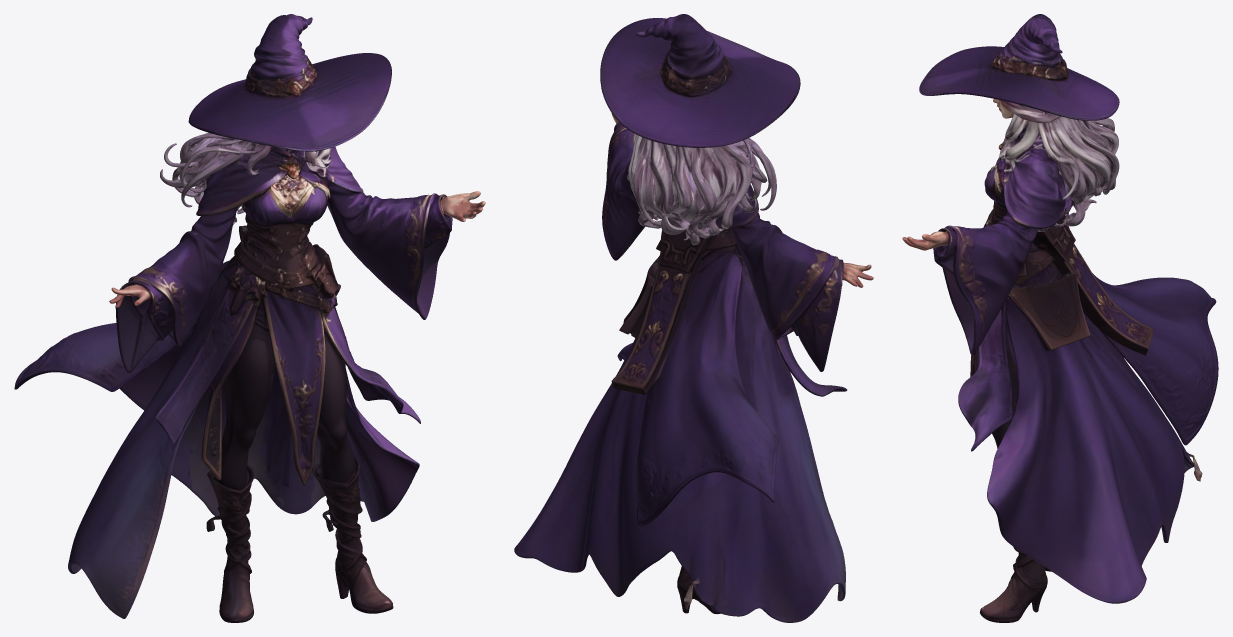
Rendered from Violet_Witch.glb.
The picture shows the model from 3 angles, left to right: view 1: azimuth 30°, elevation 25°; view 2: azimuth 150°, elevation 25°; view 3: azimuth 270°, elevation 25°; orthographic projection. The views are drawn at different scales.
Bounding box in the file's own units: 1.07 × 1.9 × 0.9557.
1 material, 1 textured.
